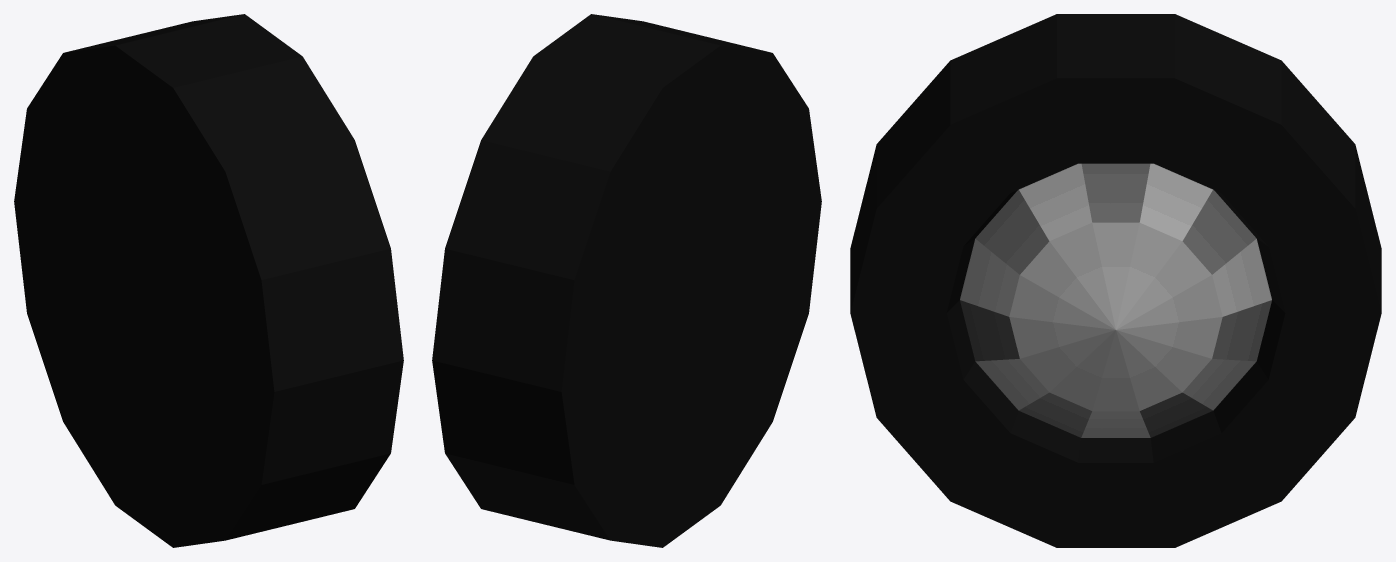
File: WheelVanFrontLeft.fbx
3 views of the same model, side by side, from view 1: azimuth 30°, elevation 25°; view 2: azimuth 150°, elevation 25°; view 3: azimuth 270°, elevation 25° (orthographic). The views are drawn at different scales.
Parts seen in each view (by area): view 1: WheelVanFrontLeft; view 2: WheelVanFrontLeft; view 3: WheelVanFrontLeft.
Boxes of the visible parts, bbox=[...] form: WheelVanFrontLeft: bbox=[14, 14, 403, 547]; WheelVanFrontLeft: bbox=[432, 14, 821, 547]; WheelVanFrontLeft: bbox=[850, 14, 1381, 547].
Size of the model in its own units: 0.1852 by 0.6092 by 0.6249.
